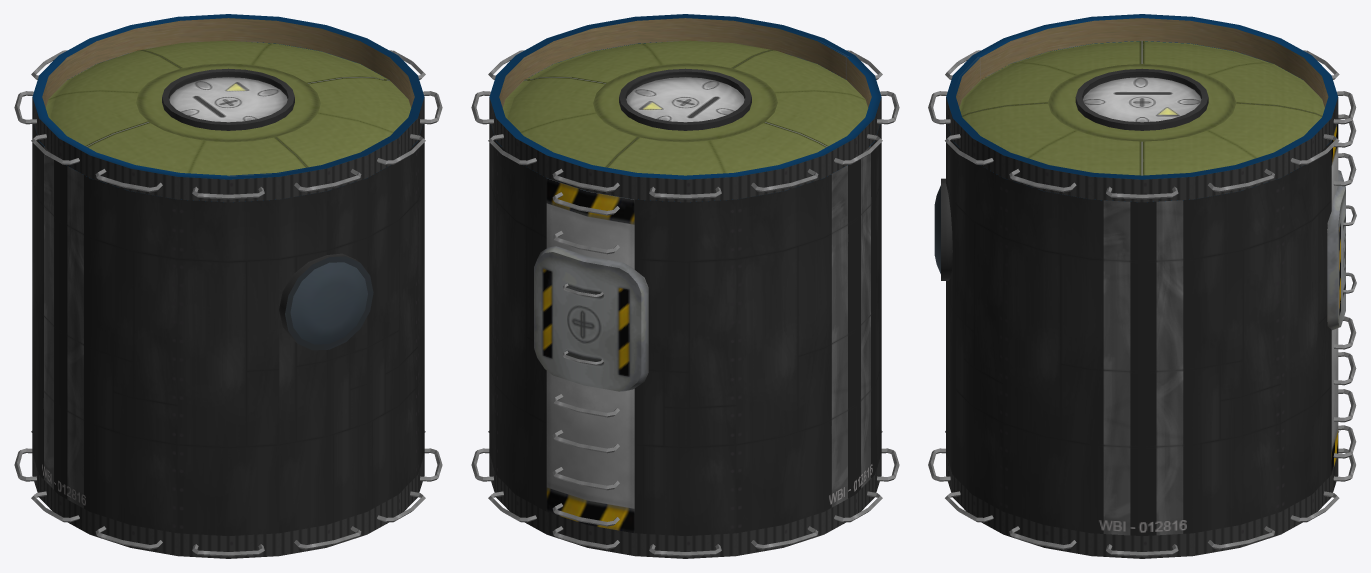
File: Mole18.FBX
3 views of the same model, side by side, from view 1: azimuth 30°, elevation 25°; view 2: azimuth 150°, elevation 25°; view 3: azimuth 270°, elevation 25° (orthographic).
Visible parts, largest first — view 1: Cylinder003, EndCap001, TankSleeve001, TankSleeve002, CrewPort, Window003, WindowFrame003; view 2: Cylinder003, EndCap001, TankSleeve001, Hatch, TankSleeve002, CrewPort; view 3: Cylinder003, EndCap001, TankSleeve001, TankSleeve002, CrewPort, Hatch, WindowFrame003.
Boxes of the visible parts, x1,y1,x2,y2 form: Cylinder003: [32, 124, 424, 535]; EndCap001: [39, 40, 417, 202]; TankSleeve001: [32, 14, 424, 202]; TankSleeve002: [32, 454, 424, 558]; CrewPort: [162, 68, 294, 130]; Window003: [285, 256, 373, 350]; WindowFrame003: [279, 253, 359, 343]; Cylinder003: [489, 124, 881, 535]; EndCap001: [496, 40, 874, 202]; TankSleeve001: [489, 14, 881, 202]; Hatch: [534, 246, 648, 391]; TankSleeve002: [489, 454, 881, 558]; CrewPort: [619, 68, 751, 130]; Cylinder003: [946, 124, 1338, 535]; EndCap001: [954, 41, 1331, 202]; TankSleeve001: [946, 14, 1338, 202]; TankSleeve002: [946, 454, 1338, 558]; CrewPort: [1075, 68, 1208, 130]; Hatch: [1327, 170, 1345, 329]; WindowFrame003: [941, 178, 952, 280].
Size of what is drawn, in the model's own units: 2.05 by 2 by 2.05.
2 materials, 2 textured.
